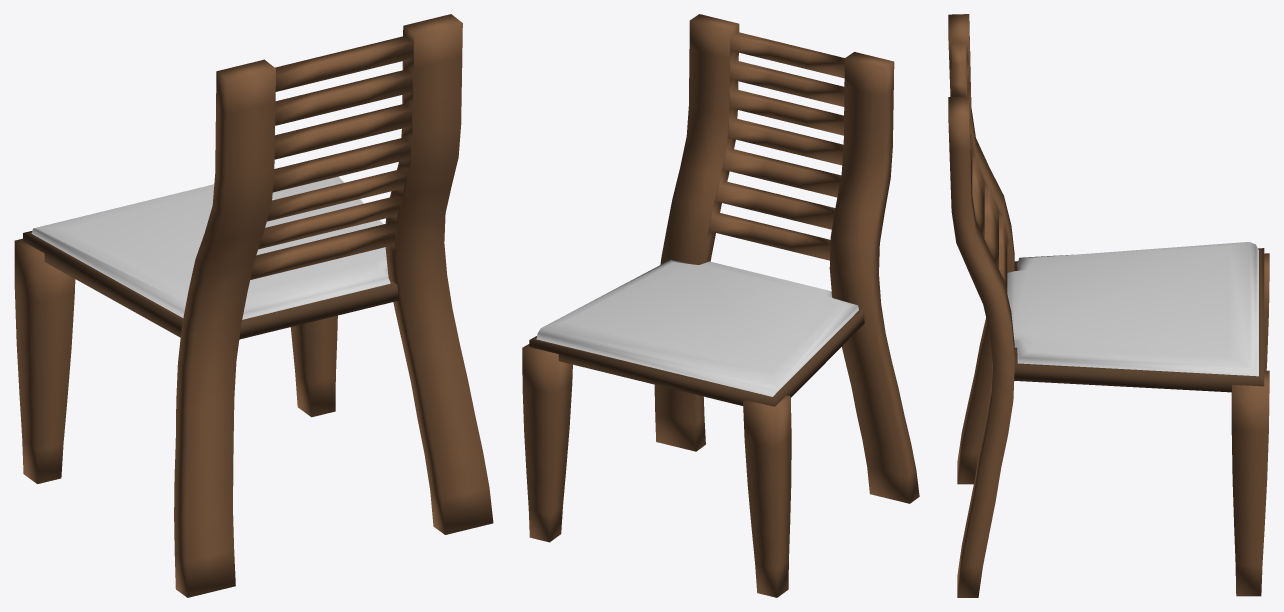
The model's file is Chair1.fbx.
The picture shows the model from 3 angles, left to right: view 1: azimuth 30°, elevation 25°; view 2: azimuth 150°, elevation 25°; view 3: azimuth 270°, elevation 25°; orthographic projection. The views are drawn at different scales.
Parts seen in each view (by area): view 1: Cube; view 2: Cube; view 3: Cube.
Boxes of the visible parts, x1,y1,x2,y2 form: Cube: [14, 14, 493, 597]; Cube: [522, 14, 919, 597]; Cube: [948, 14, 1269, 597].
Bounding box in the file's own units: 62.6 × 99.9 × 62.63.
